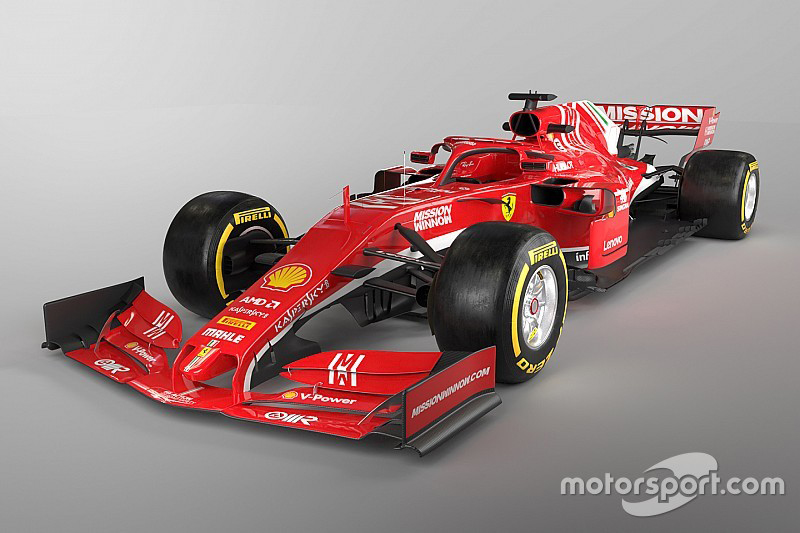F1 Car: (28, 83, 764, 459)
